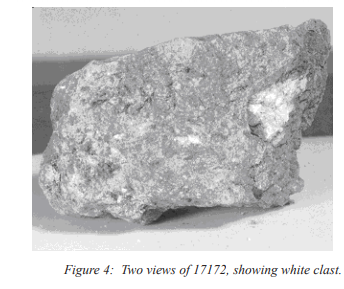Breccia: (35, 9, 319, 239)
